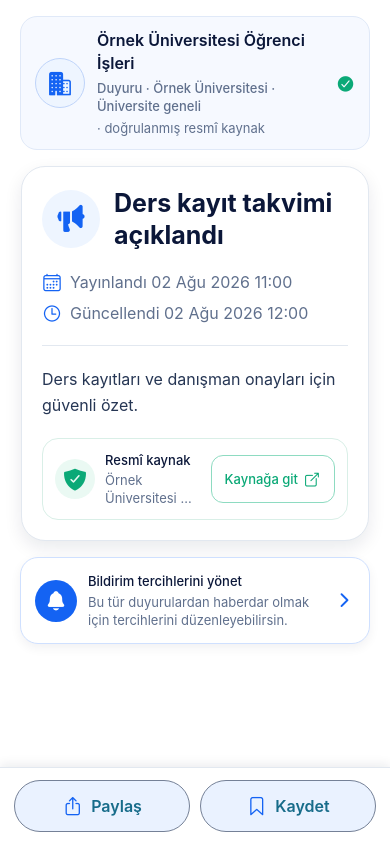
Test: Phase 8 announcement detail › contains share failure and never exposes raw failure details
This screenshot has width=390, height=844.
Click the button "Paylaş" at (102, 806), box x1=14 y1=780 x2=190 y2=832
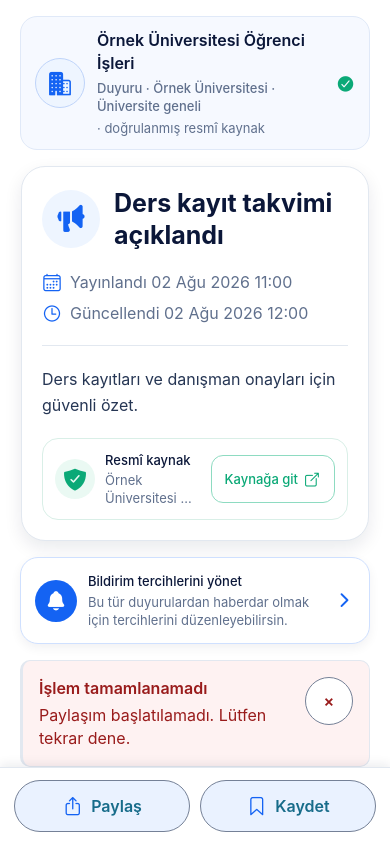
expect the text "İşlem tamamlanamadı" is shown: met, box x1=39 y1=678 x2=207 y2=698
expect the text "Paylaşım başlatılamadı. Lütfen tekrar dene." is shown: met, box x1=39 y1=704 x2=293 y2=750
